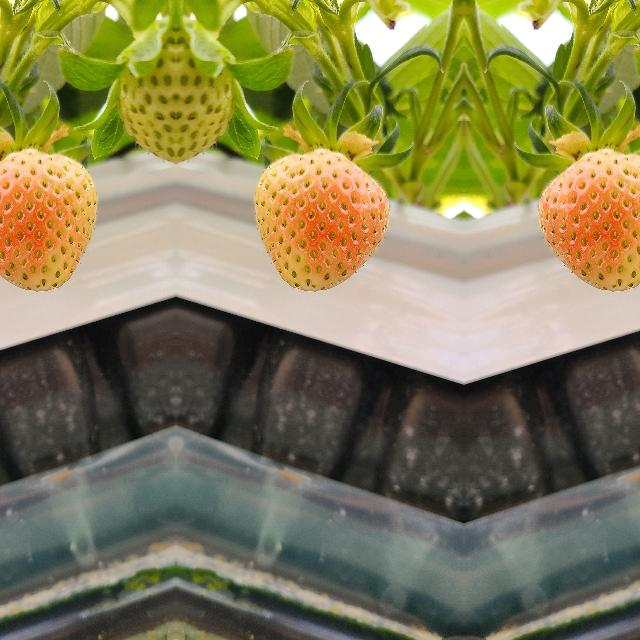Health_25: (175, 28, 235, 162), (115, 28, 175, 162)
Health_50: (250, 148, 390, 294), (536, 148, 640, 293), (0, 148, 99, 293)
